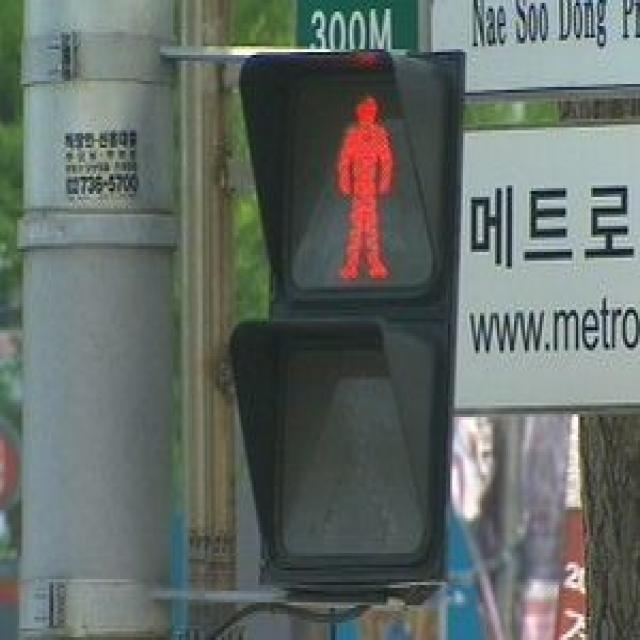Not go: (234, 57, 450, 588), (261, 66, 442, 324)
